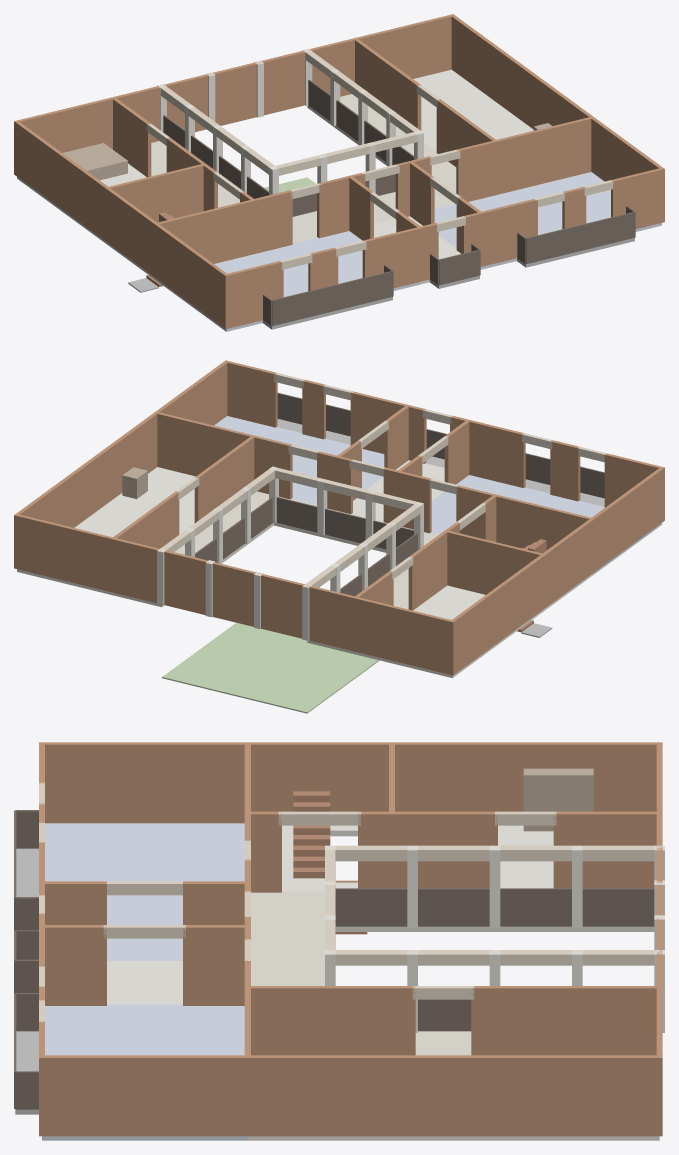
3 views of the same model, one above another, from view 1: azimuth 30°, elevation 25°; view 2: azimuth 150°, elevation 25°; view 3: azimuth 270°, elevation 25° (orthographic). The views are drawn at different scales.
Visible parts, largest first — view 1: n1_muro_12, n1_muro_13, n1_muro_23, n1_muro_10, n1_muro_7, n1_piso_tableros_0, n1_piso_musica_0, n1_piso_biblioteca_0, n1_muro_11, n1_muro_4, n1_muro_3, n1_barandal_37 (+30 smaller); view 2: n1_muro_12, n1_muro_13, n1_patio_abajo, n1_muro_23, n1_muro_10, n1_muro_7, n1_muro_11, n1_piso_musica_0, n1_muro_3, n1_piso_tableros_0, n1_piso_biblioteca_0, n1_muro_6 (+28 smaller); view 3: n1_muro_23, n1_muro_13, n1_piso_biblioteca_0, n1_muro_22, n1_muro_21, n1_barandal_42, n1_piso_tableros_0, n1_muro_15, n1_piso_corredor_0, n1_muro_16, n1_muro_20, n1_muro_19 (+35 smaller).
Part boxes in pixels (left/top/right/bottom): n1_muro_12: left=16, top=14, right=454, bottom=152; n1_muro_13: left=14, top=120, right=229, bottom=327; n1_muro_23: left=451, top=14, right=662, bottom=181; n1_muro_10: left=456, top=116, right=594, bottom=201; n1_muro_7: left=153, top=190, right=292, bottom=277; n1_piso_tableros_0: left=434, top=172, right=661, bottom=269; n1_piso_musica_0: left=413, top=69, right=533, bottom=150; n1_piso_biblioteca_0: left=156, top=231, right=419, bottom=331; n1_muro_11: left=104, top=164, right=203, bottom=241; n1_muro_4: left=462, top=199, right=537, bottom=266; n1_muro_3: left=362, top=222, right=438, bottom=288; n1_barandal_37: left=272, top=271, right=393, bottom=326; n1_muro_12: left=14, top=513, right=455, bottom=675; n1_muro_13: left=449, top=466, right=664, bottom=675; n1_patio_abajo: left=162, top=622, right=379, bottom=713; n1_muro_23: left=16, top=361, right=228, bottom=527; n1_muro_10: left=154, top=411, right=292, bottom=499; n1_muro_7: left=456, top=485, right=594, bottom=572; n1_muro_11: left=444, top=530, right=545, bottom=608; n1_piso_musica_0: left=17, top=467, right=195, bottom=595; n1_muro_3: left=450, top=416, right=525, bottom=488; n1_piso_tableros_0: left=214, top=416, right=384, bottom=504; n1_piso_biblioteca_0: left=431, top=475, right=661, bottom=575; n1_muro_6: left=224, top=360, right=277, bottom=427; n1_muro_23: left=39, top=1055, right=662, bottom=1136; n1_muro_13: left=39, top=742, right=657, bottom=823; n1_piso_biblioteca_0: left=45, top=823, right=244, bottom=960; n1_muro_22: left=471, top=986, right=662, bottom=1055; n1_muro_21: left=244, top=986, right=415, bottom=1055; n1_barandal_42: left=335, top=888, right=654, bottom=926; n1_piso_tableros_0: left=42, top=1004, right=247, bottom=1140; n1_muro_15: left=358, top=811, right=497, bottom=888; n1_piso_corredor_0: left=251, top=891, right=324, bottom=985; n1_muro_16: left=553, top=811, right=657, bottom=888; n1_muro_20: left=183, top=925, right=244, bottom=1005; n1_muro_19: left=45, top=925, right=106, bottom=1005.
Bounding box in the file's own units: 36.3 × 10.1 × 31.62.
